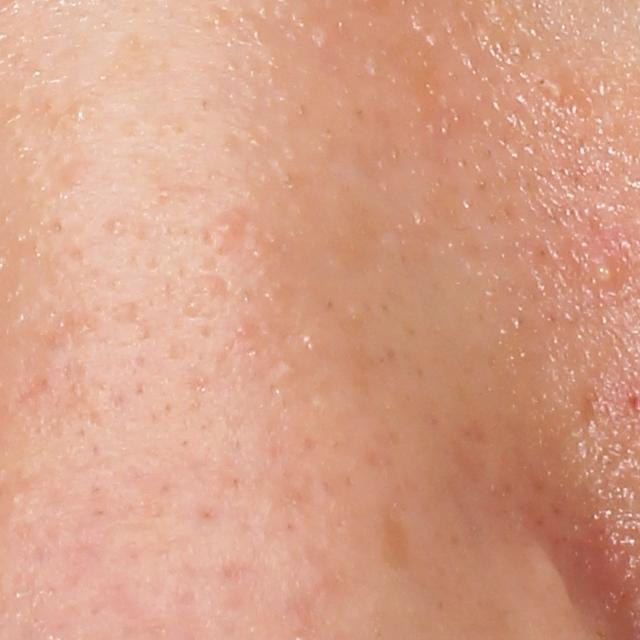comedo: (540, 77, 569, 105)
pustule: (582, 246, 626, 292)
